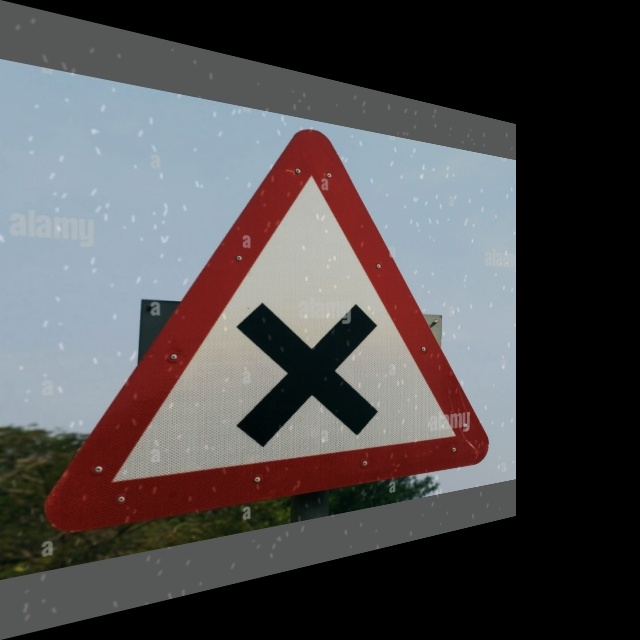Cross_Road: (96, 94, 488, 531)
